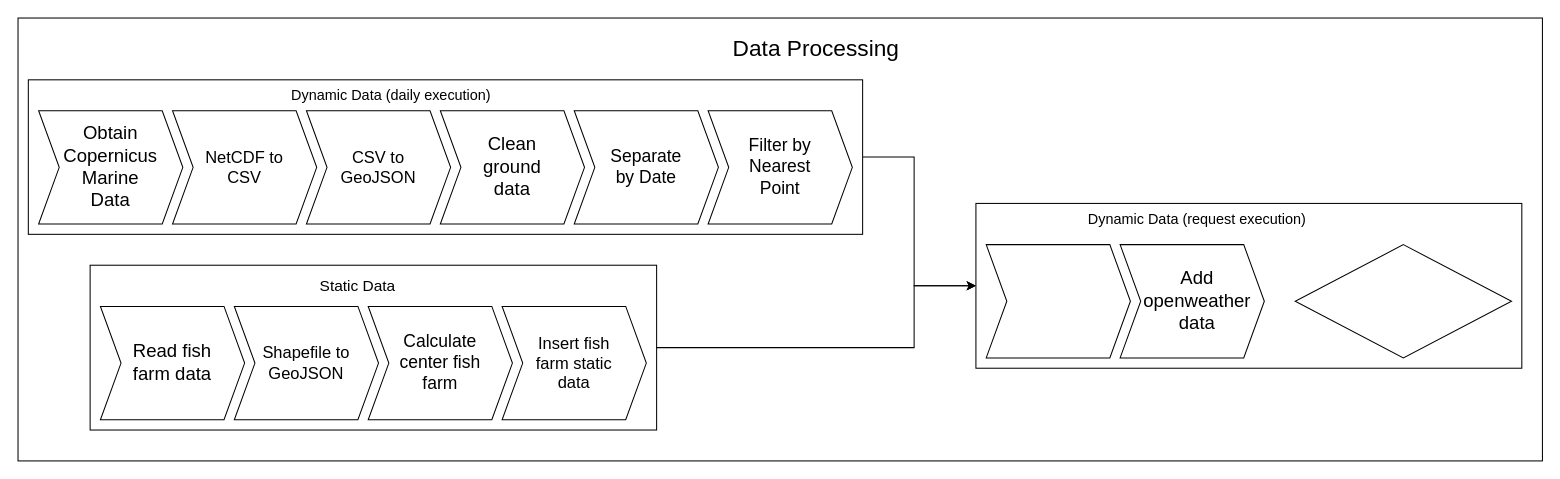
The diagram is 1560 pixels wide and 479 high, and some of its shapes have lost their labels. The shapes that lost their labels are listed below. From the top down, each one's box as (x1, y1, x2, y2) in pixels, then its label:
(985, 244, 1130, 358): Select data by date and hour
(1294, 244, 1512, 358): Display on Mapbox
